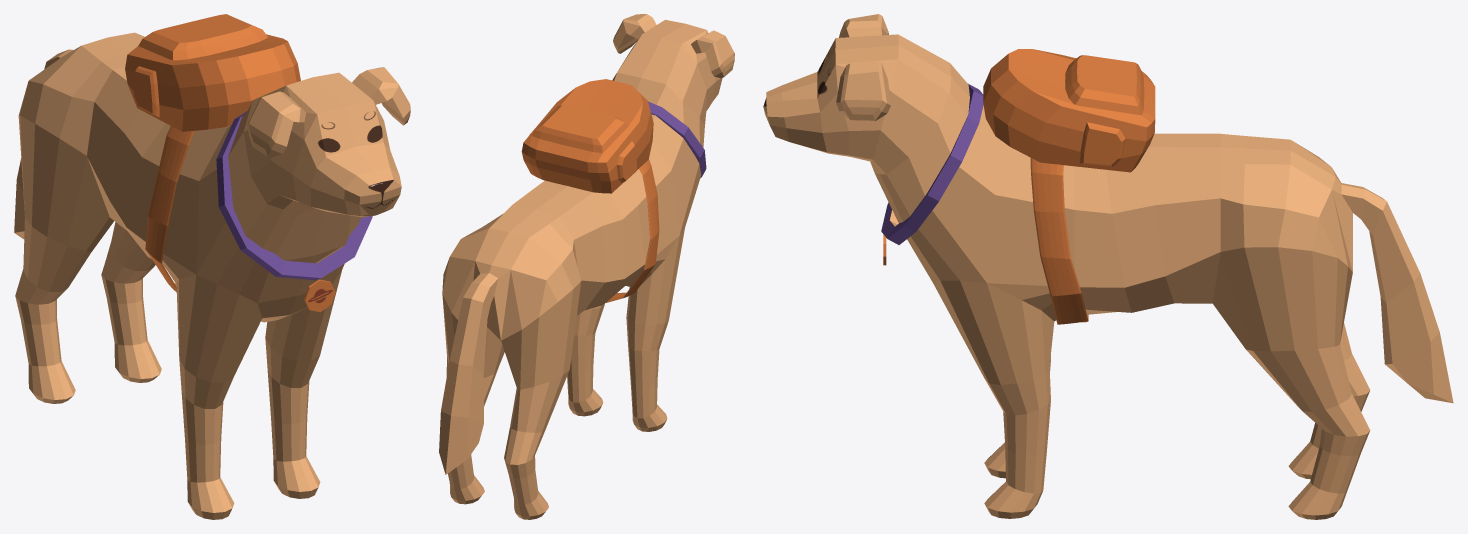
Rendered from dog.fbx.
The picture shows the model from 3 angles, left to right: view 1: azimuth 30°, elevation 25°; view 2: azimuth 150°, elevation 25°; view 3: azimuth 270°, elevation 25°; orthographic projection. The views are drawn at different scales.
Visible parts, largest first — view 1: Dog; view 2: Dog; view 3: Dog.
Boxes of the visible parts, left/top/right/bottom form: Dog: left=14, top=14, right=410, bottom=519; Dog: left=439, top=14, right=734, bottom=519; Dog: left=763, top=14, right=1453, bottom=519.
Bounding box in the file's own units: 168 × 475 × 657.
